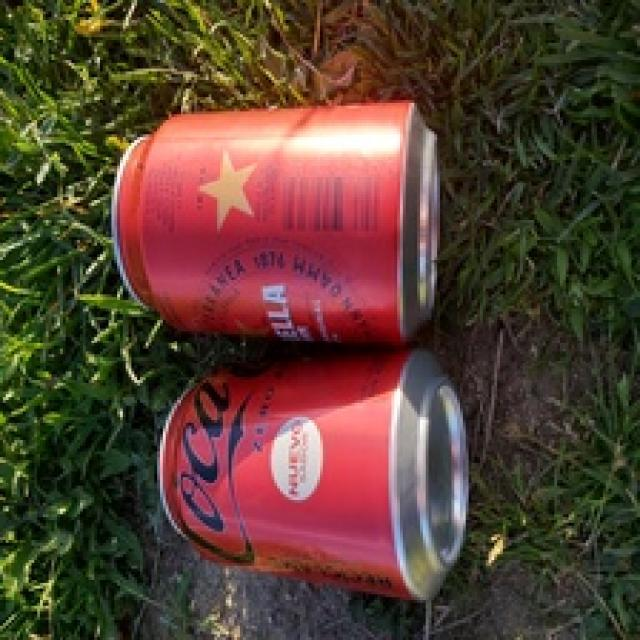recyclable: (157, 343, 472, 606), (112, 102, 442, 345)
